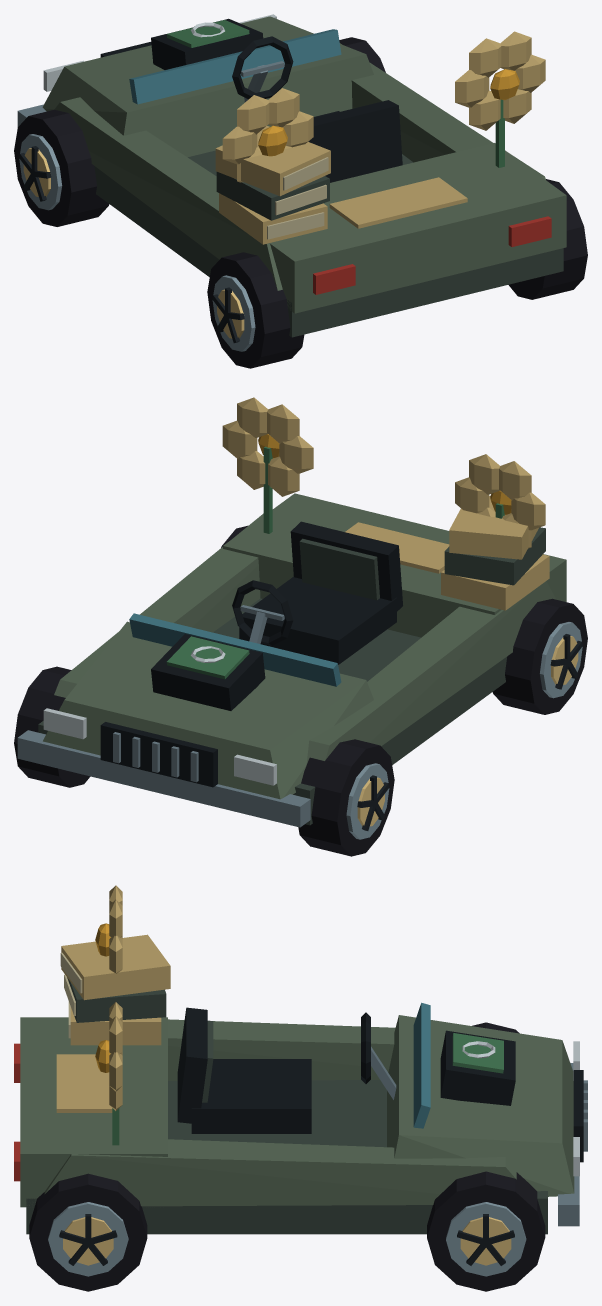
File: kart.glb
3 renders of one model, top to bottom at view 1: azimuth 30°, elevation 25°; view 2: azimuth 150°, elevation 25°; view 3: azimuth 270°, elevation 25°, orthographic. The views are drawn at different scales.
Visible parts, largest first — view 1: identity-sedan-sedan-road-car-body, identity-sedan-motif-flowers, identity-sedan-motif-books, wheel-front-left, wheel-rear-left, identity-sedan-driver-cockpit, identity-sedan-motif-scanner, wheel-rear-right, wheel-front-right; view 2: identity-sedan-sedan-road-car-body, identity-sedan-driver-cockpit, identity-sedan-motif-flowers, wheel-front-left, identity-sedan-motif-books, wheel-rear-left, identity-sedan-motif-scanner, wheel-front-right; view 3: identity-sedan-sedan-road-car-body, identity-sedan-driver-cockpit, wheel-front-right, wheel-rear-right, identity-sedan-motif-books, identity-sedan-motif-scanner, identity-sedan-motif-flowers.
Boxes of the visible parts, left/top/right/bottom form: identity-sedan-sedan-road-car-body: left=17, top=14, right=566, bottom=337; identity-sedan-motif-flowers: left=222, top=31, right=545, bottom=182; identity-sedan-motif-books: left=215, top=126, right=330, bottom=244; wheel-front-left: left=14, top=109, right=109, bottom=226; wheel-rear-left: left=207, top=252, right=304, bottom=368; identity-sedan-driver-cockpit: left=232, top=36, right=402, bottom=182; identity-sedan-motif-scanner: left=151, top=18, right=263, bottom=69; wheel-rear-right: left=508, top=179, right=587, bottom=299; wheel-front-right: left=339, top=37, right=385, bottom=72; identity-sedan-sedan-road-car-body: left=17, top=493, right=566, bottom=827; identity-sedan-driver-cockpit: left=232, top=521, right=402, bottom=664; identity-sedan-motif-flowers: left=222, top=397, right=545, bottom=548; wheel-front-left: left=298, top=739, right=394, bottom=856; identity-sedan-motif-books: left=441, top=496, right=549, bottom=610; wheel-rear-left: left=492, top=598, right=587, bottom=714; identity-sedan-motif-scanner: left=151, top=634, right=265, bottom=710; wheel-front-right: left=14, top=666, right=90, bottom=787; identity-sedan-sedan-road-car-body: left=14, top=1002, right=587, bottom=1234; identity-sedan-driver-cockpit: left=177, top=1007, right=396, bottom=1133; wheel-front-right: left=427, top=1171, right=545, bottom=1291; wheel-rear-right: left=29, top=1173, right=147, bottom=1291; identity-sedan-motif-books: left=60, top=934, right=170, bottom=1045; identity-sedan-motif-scanner: left=440, top=1030, right=515, bottom=1105; identity-sedan-motif-flowers: left=95, top=885, right=122, bottom=1145.
Size of the model in its own units: 2.07 by 1.46 by 2.92.
